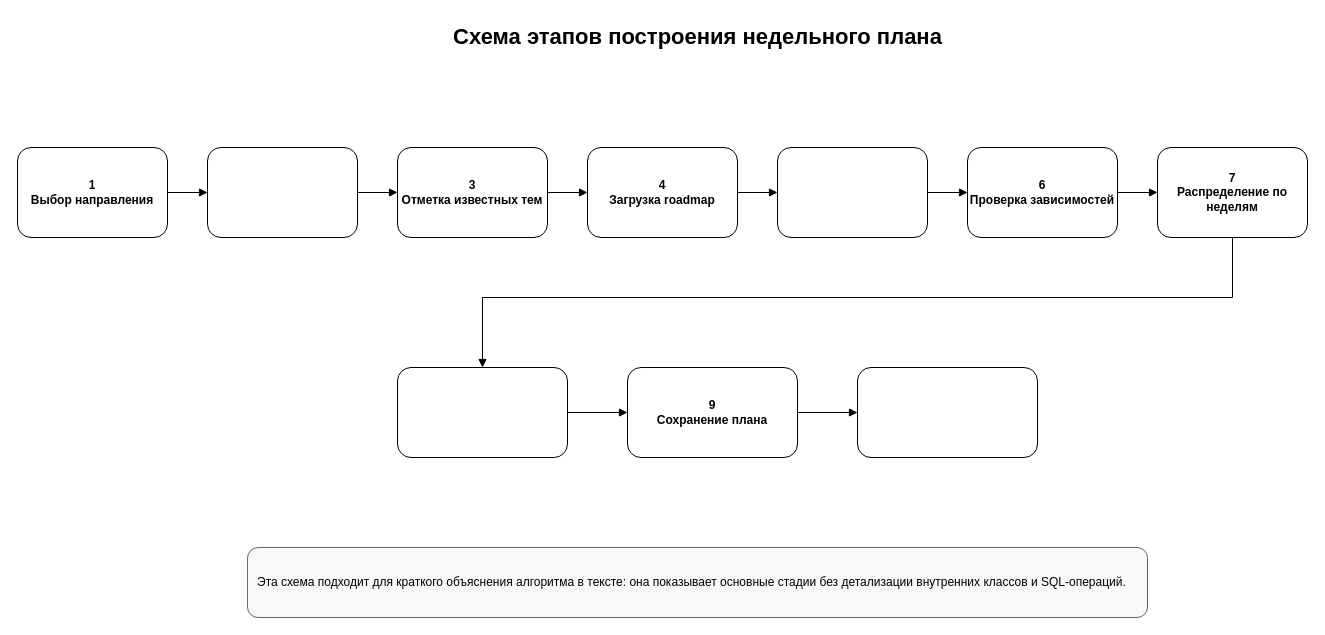
This 1325x635 diagram has some shape labels left out. The centre of each missing label's shape, as x and y in pixels:
10 Показ результата пользователю: point 947,412
2 Ввод часов в неделю: point 282,192
5 Исключение известных тем: point 852,192
8 Дробление крупных тем: point 482,412
